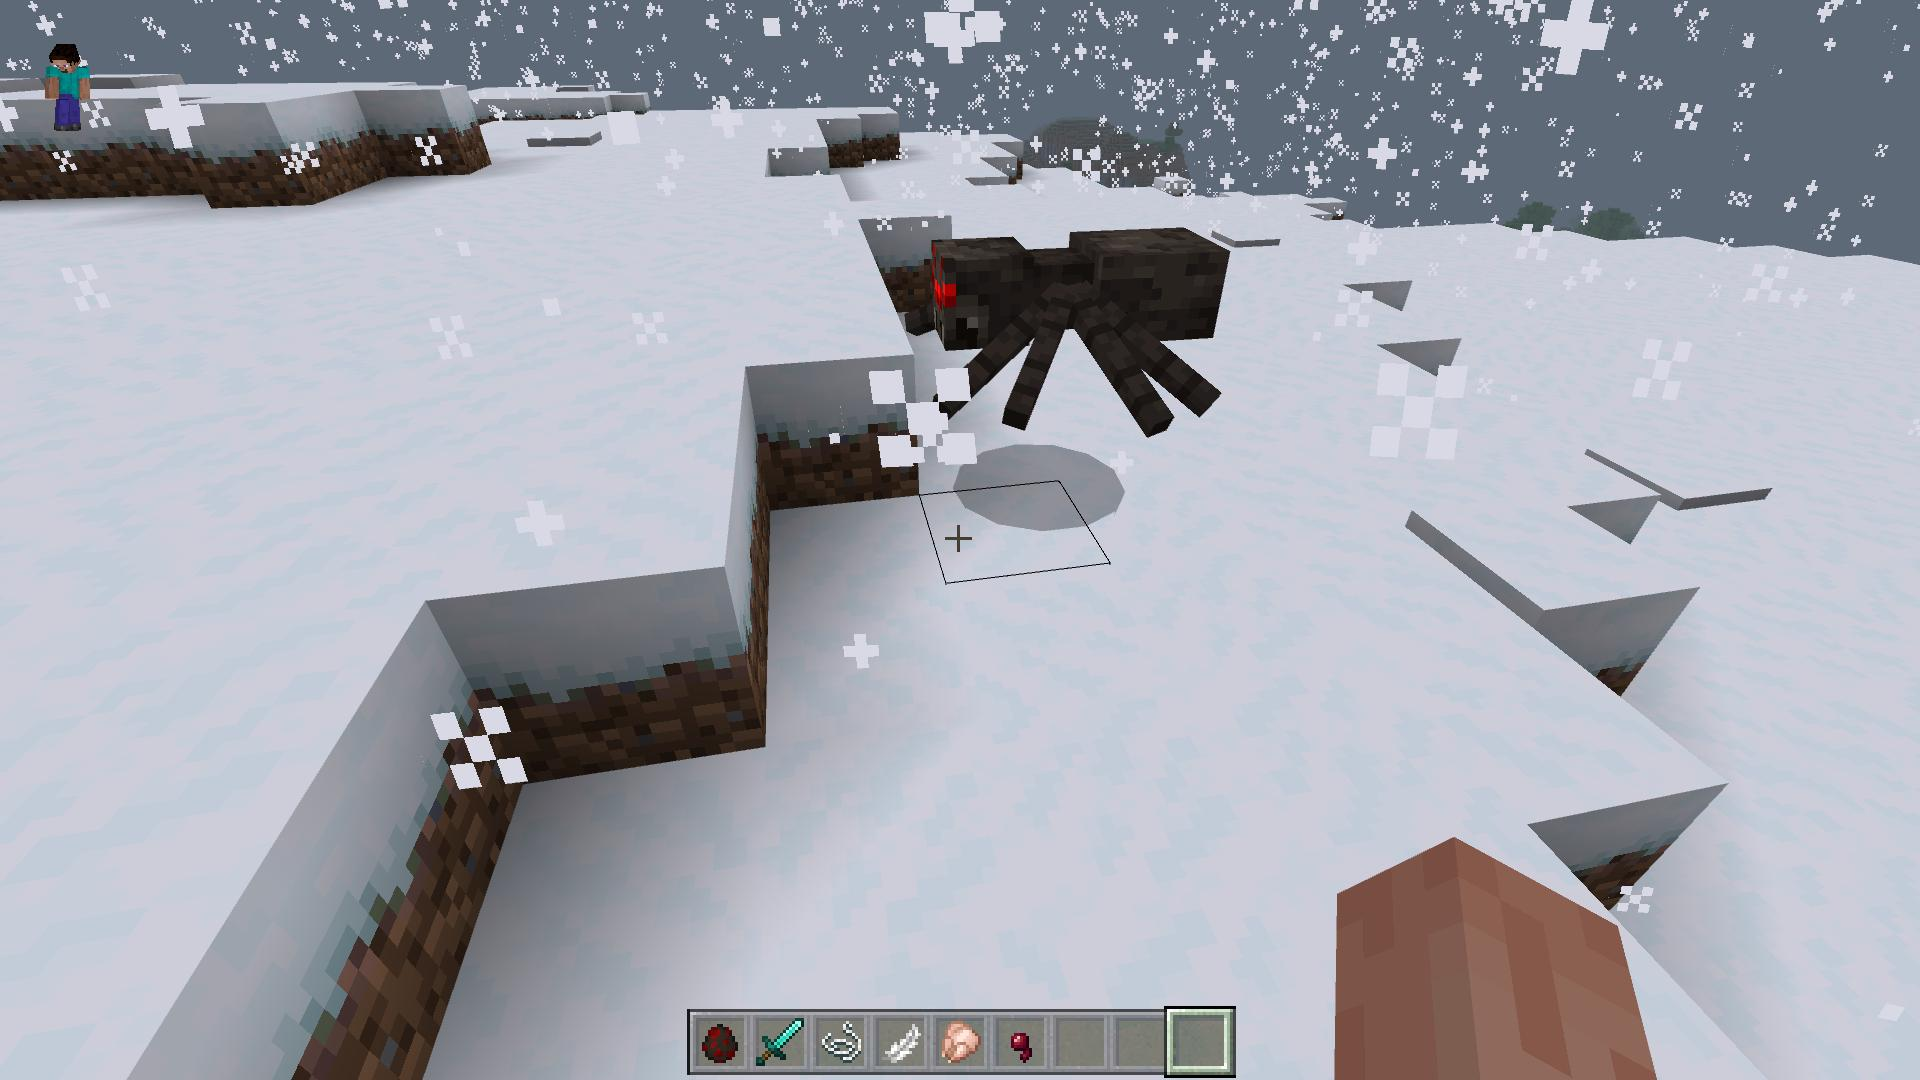spider: (928, 225, 1228, 435)
